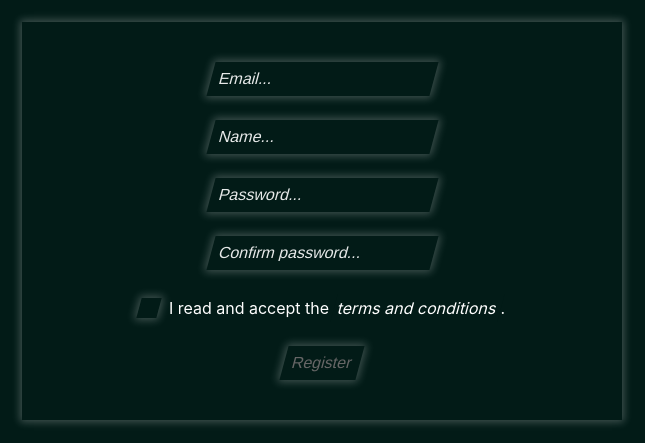
it: RegistrationForm component › Test actions › should enable Register button after correct format data and accepted terms and conditions
Type "email@email.com" into the field with placeholder "Email...".
click(322, 79); type("email@email.com")  # box x1=206 y1=62 x2=438 y2=96
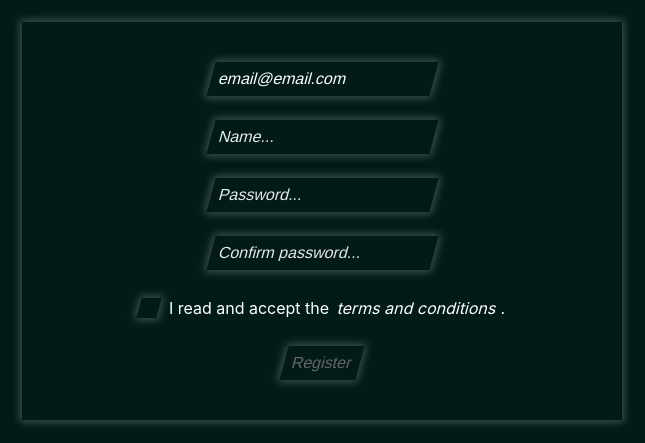
Type "FirstName LastName" into the field with placeholder "Name...".
click(322, 137); type("FirstName LastName")  # box x1=206 y1=120 x2=438 y2=154
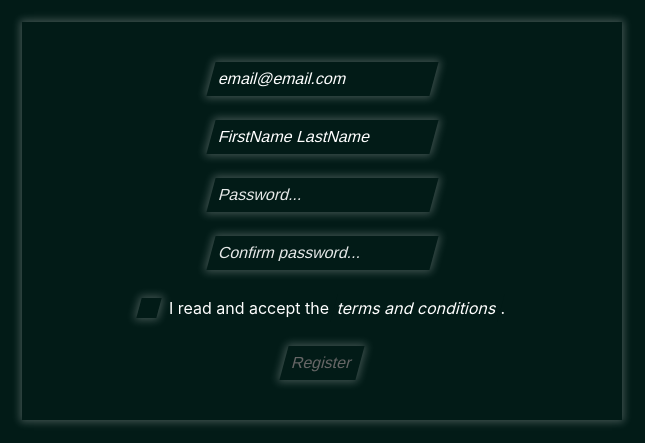
Type "Abcd1234" into the password field with placeholder "Password...".
click(322, 195); type("Abcd1234")  # box x1=206 y1=178 x2=438 y2=212
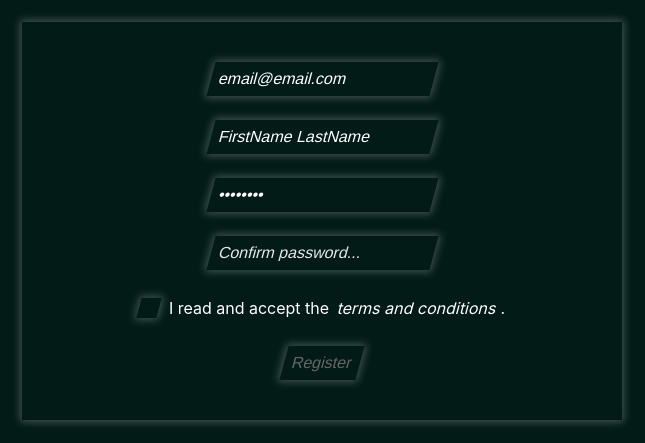
Type "Abcd1234" into the password field with placeholder "Confirm password...".
click(322, 253); type("Abcd1234")  # box x1=206 y1=236 x2=438 y2=270
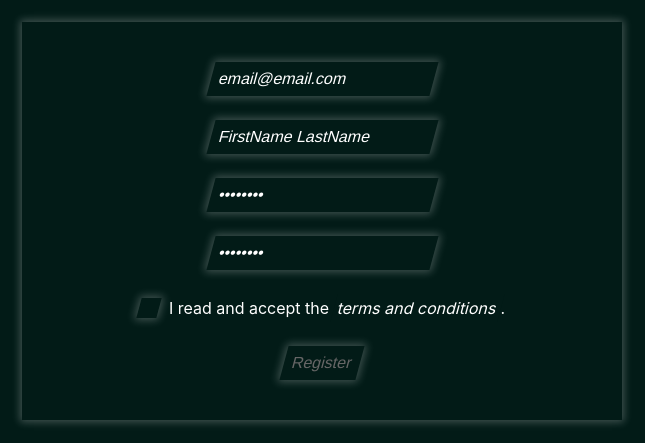
Click the checkbox.
click(321, 308)  # box x1=136 y1=294 x2=505 y2=322
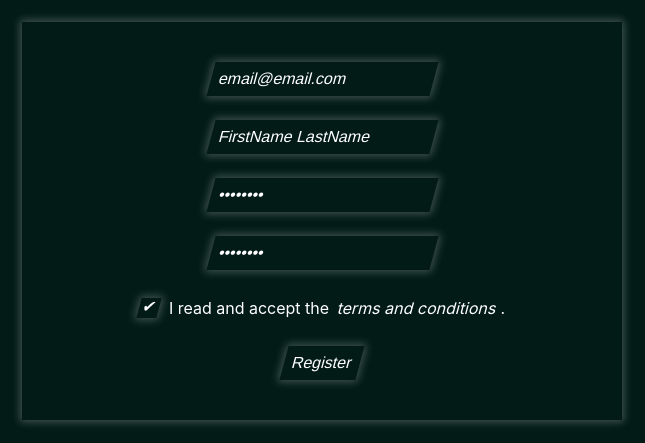
expect the button "Register" is enabled: met, box x1=280 y1=346 x2=364 y2=380
